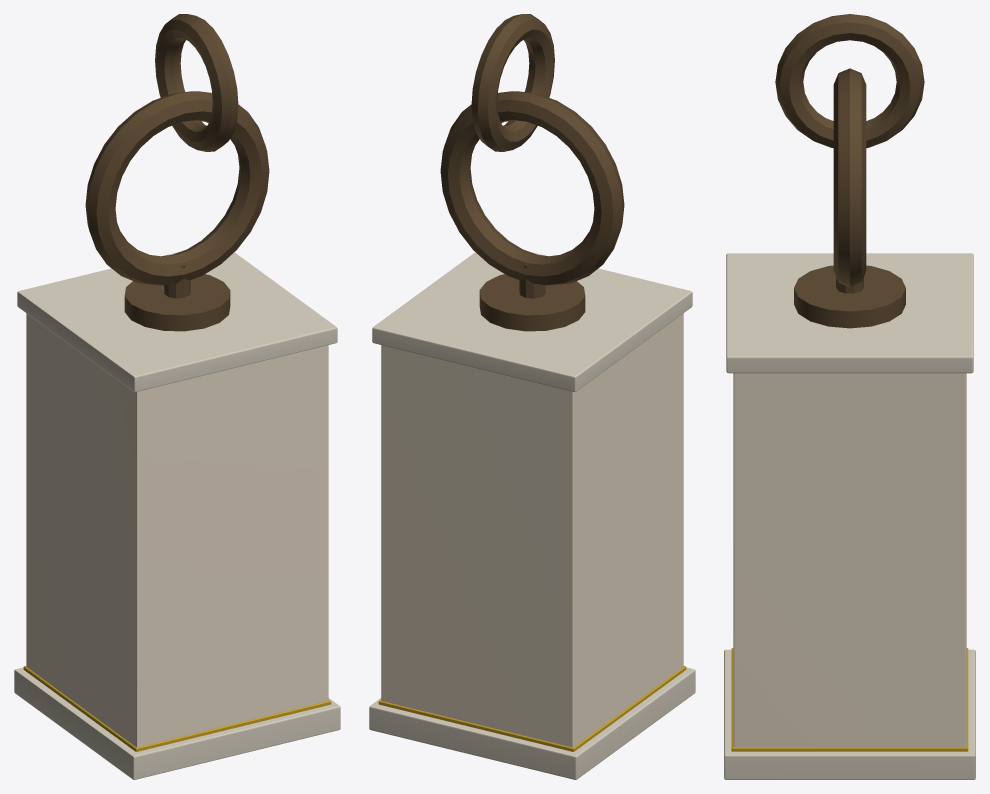
Rendered from prop_plinth_bronze_b.glb.
3 renders of one model, left to right at view 1: azimuth 30°, elevation 25°; view 2: azimuth 150°, elevation 25°; view 3: azimuth 270°, elevation 25°, orthographic. The views are drawn at different scales.
Visible parts, largest first — view 1: Plinth; view 2: Plinth; view 3: Plinth.
Part boxes in pixels (x1,y1,x2,y2): Plinth: (14,14,340,779); Plinth: (369,14,695,779); Plinth: (724,14,975,779).
Size of what is drawn, in the model's own units: 0.54 by 1.71 by 0.54.
